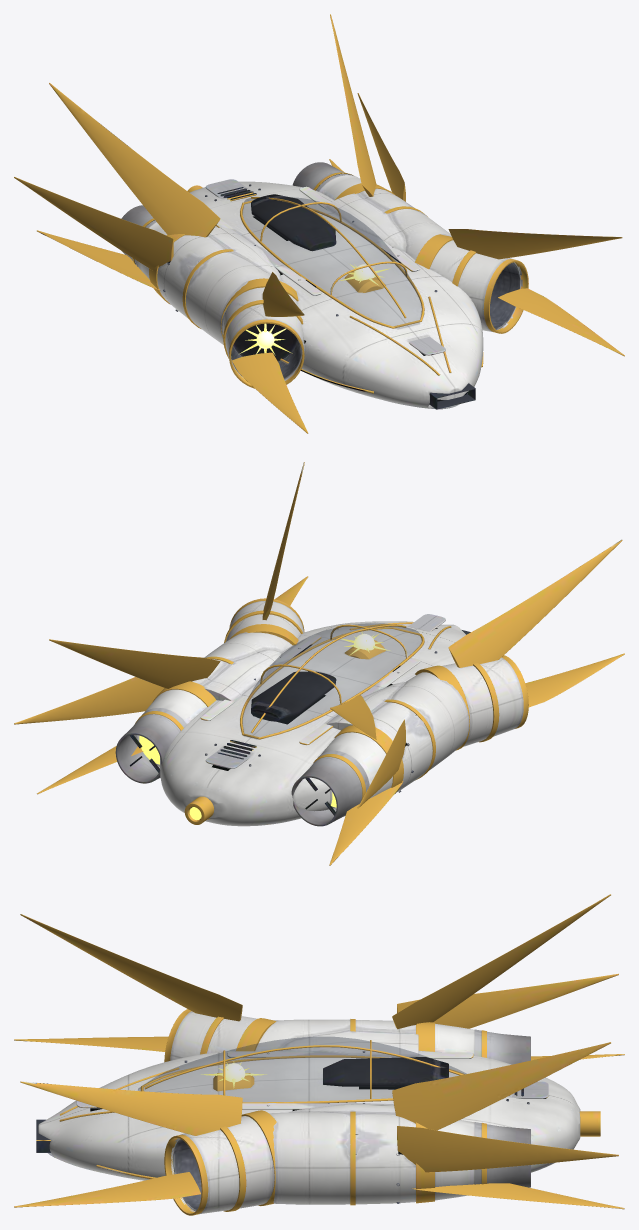
Rendered from nova.glb.
3 views of the same model, one above another, from view 1: azimuth 30°, elevation 25°; view 2: azimuth 150°, elevation 25°; view 3: azimuth 270°, elevation 25° (orthographic). The views are drawn at different scales.
Visible parts, largest first — view 1: nova_body, canopy; view 2: nova_body, canopy; view 3: nova_body, canopy.
Boxes of the visible parts, x1,y1,x2,y2 form: nova_body: (14, 14, 624, 433); canopy: (242, 197, 421, 328); nova_body: (14, 462, 624, 865); canopy: (242, 623, 421, 738); nova_body: (14, 894, 624, 1215); canopy: (138, 1037, 466, 1101).
Size of the model in its own units: 3.14 by 1.5 by 4.46.
Materials: 6 (2 with a texture image).
